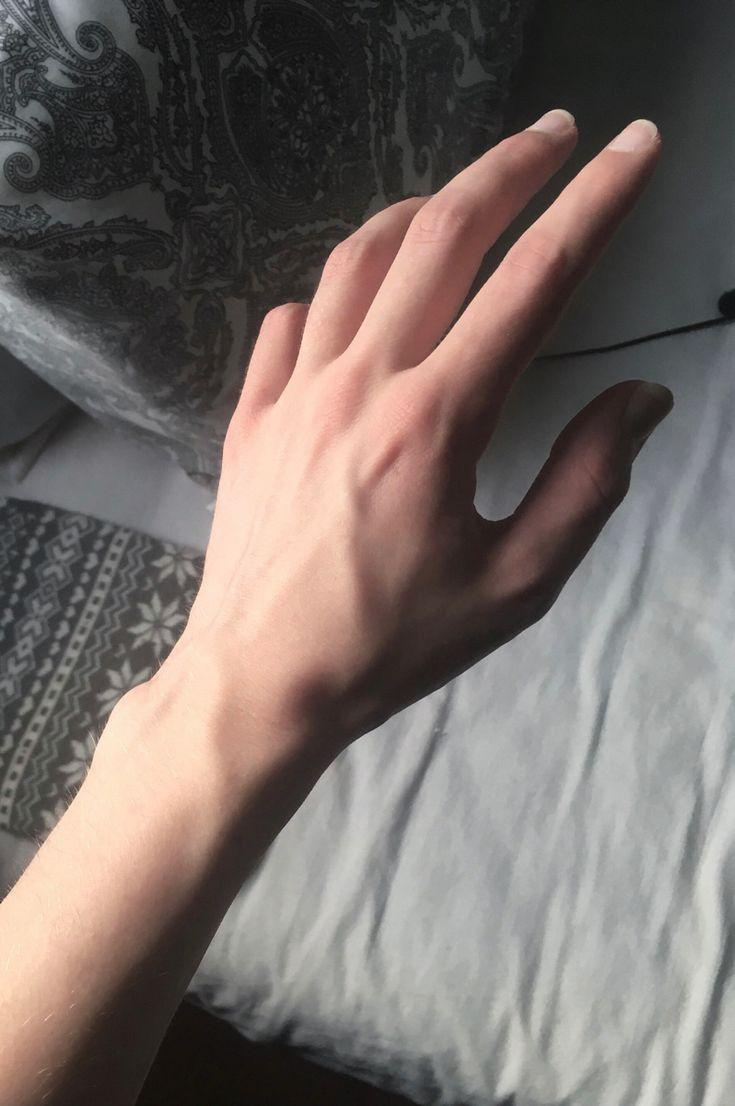hand: (183, 93, 681, 685)
